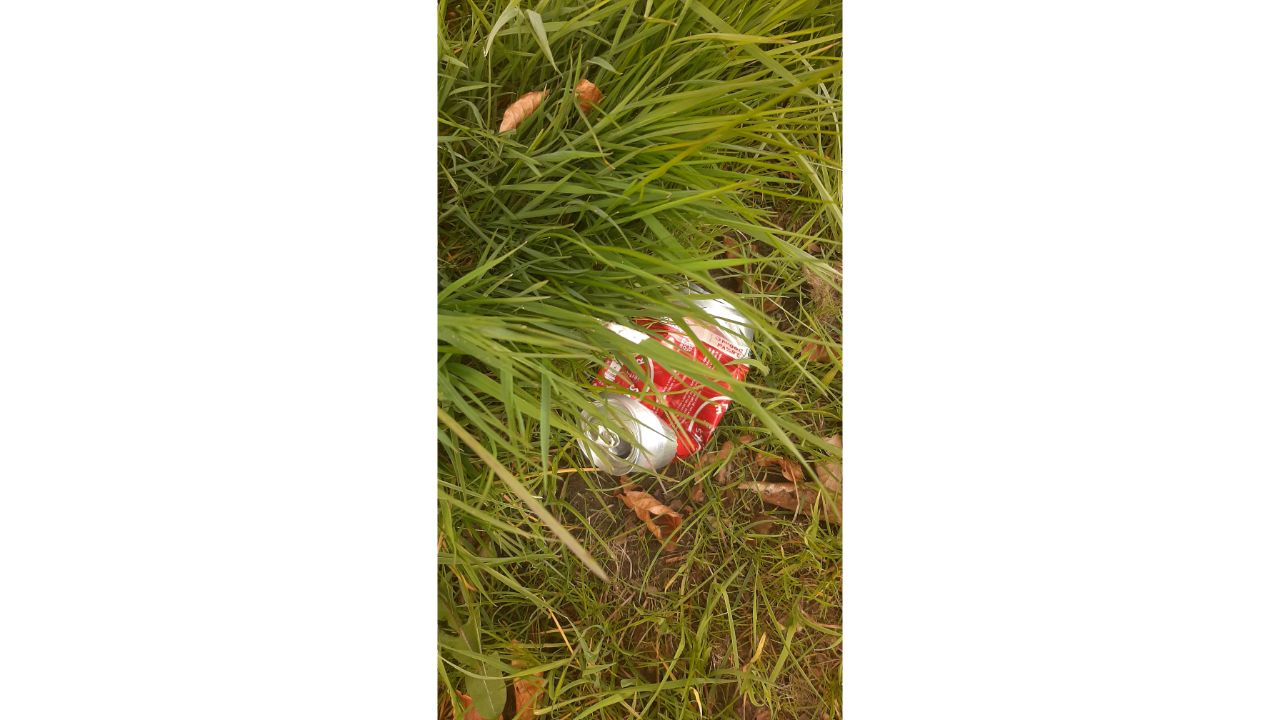Can: (568, 280, 761, 489)
